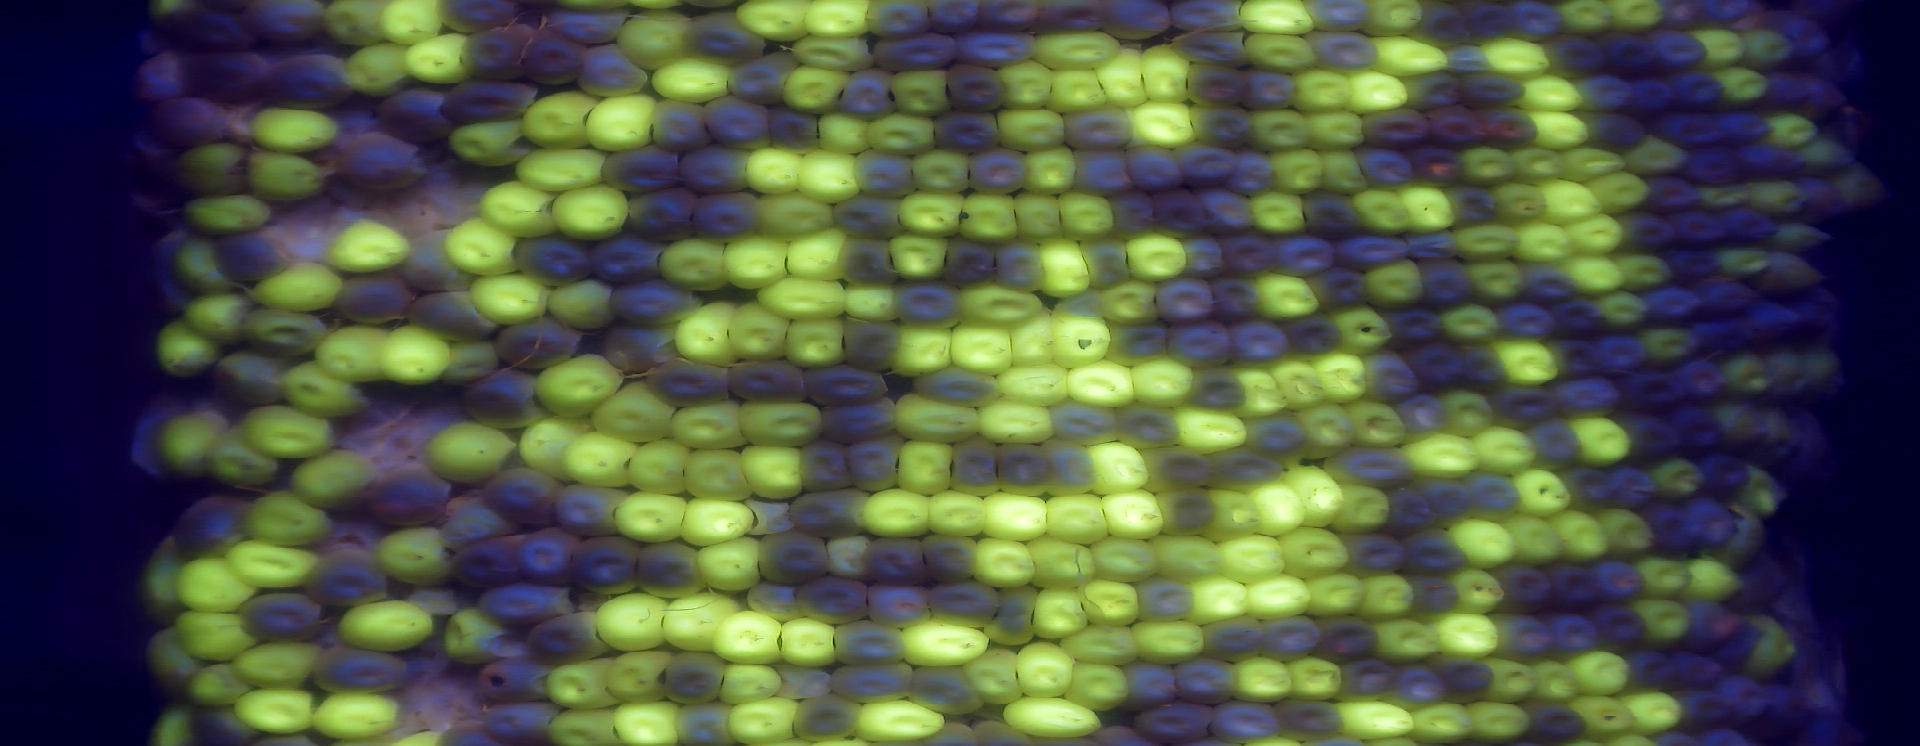fluorescent: (425, 423, 520, 489), (531, 352, 624, 415), (589, 382, 678, 447), (333, 597, 435, 653), (222, 538, 321, 593), (136, 535, 196, 626), (231, 639, 332, 693), (660, 590, 743, 655), (280, 363, 375, 419), (890, 390, 984, 446), (309, 686, 400, 744), (238, 403, 336, 457), (242, 146, 329, 206), (519, 413, 589, 488), (169, 608, 266, 661), (242, 494, 343, 545), (519, 88, 601, 151), (672, 299, 744, 369), (442, 218, 522, 281), (549, 183, 633, 241), (593, 593, 673, 654), (209, 423, 285, 488), (289, 453, 377, 508), (478, 181, 558, 241), (998, 695, 1104, 740), (953, 278, 1051, 327), (168, 140, 251, 197), (153, 410, 227, 475), (469, 273, 553, 330), (326, 219, 411, 274), (1171, 397, 1249, 457), (180, 289, 260, 348), (249, 261, 342, 311), (615, 9, 689, 71), (692, 535, 769, 595), (247, 104, 344, 152), (729, 299, 796, 367), (583, 92, 658, 153), (898, 620, 991, 669), (376, 327, 452, 387), (1022, 533, 1100, 592), (1284, 461, 1347, 533), (756, 279, 852, 326), (312, 327, 396, 381), (375, 527, 451, 586), (1276, 521, 1352, 579), (853, 696, 947, 744), (735, 398, 823, 448), (153, 318, 227, 379), (670, 402, 753, 454), (342, 40, 411, 103), (175, 559, 260, 610), (713, 609, 786, 668), (1742, 611, 1800, 686), (680, 494, 759, 548), (171, 234, 240, 296), (1086, 533, 1163, 588), (562, 432, 634, 491), (230, 687, 321, 734), (179, 191, 274, 235), (779, 62, 853, 119), (736, 446, 811, 502), (1086, 437, 1153, 500), (1044, 491, 1116, 550), (860, 488, 937, 541), (613, 491, 689, 545), (1144, 532, 1227, 581), (512, 148, 612, 189), (970, 533, 1040, 590), (980, 491, 1051, 548), (991, 105, 1071, 154), (607, 696, 686, 746), (1065, 660, 1136, 715), (890, 323, 958, 381), (1430, 615, 1504, 668), (1129, 356, 1199, 412), (1060, 622, 1145, 668), (1706, 508, 1768, 570), (722, 697, 804, 744), (893, 440, 958, 499), (1065, 363, 1141, 413), (795, 149, 863, 205), (749, 195, 838, 238), (1358, 257, 1431, 309), (1449, 514, 1517, 570), (732, 1, 813, 48), (1122, 232, 1191, 285), (779, 318, 849, 372), (628, 439, 689, 500), (142, 628, 203, 690), (658, 239, 729, 292), (1093, 47, 1151, 111), (1569, 413, 1633, 470), (1027, 583, 1093, 639), (789, 34, 880, 75), (602, 646, 670, 701), (400, 33, 469, 87), (449, 118, 523, 168), (1130, 97, 1200, 149), (1136, 44, 1196, 105), (441, 608, 506, 664), (722, 236, 789, 292), (950, 321, 1016, 376), (776, 619, 842, 674), (1507, 465, 1575, 519), (650, 58, 735, 100), (889, 66, 958, 119), (689, 450, 754, 505), (1251, 272, 1322, 322), (1569, 692, 1641, 741), (1183, 576, 1251, 627), (1076, 579, 1145, 631), (1000, 316, 1063, 372), (1013, 638, 1075, 695), (992, 56, 1056, 111), (895, 191, 969, 239), (542, 665, 622, 709), (1471, 423, 1536, 477), (1032, 33, 1124, 71), (547, 277, 613, 330), (1480, 652, 1540, 709), (996, 365, 1071, 410), (1404, 435, 1480, 480), (1051, 314, 1114, 367), (955, 191, 1021, 243), (976, 401, 1053, 445), (1466, 698, 1537, 746), (1131, 617, 1206, 663), (966, 647, 1024, 706), (1100, 490, 1167, 540), (1496, 339, 1564, 390), (1231, 655, 1292, 710), (1632, 600, 1695, 654), (742, 148, 807, 200), (1040, 240, 1095, 300), (1507, 512, 1562, 572), (1371, 617, 1441, 664), (1202, 486, 1261, 541), (1245, 104, 1313, 152), (1056, 191, 1118, 243), (1249, 187, 1311, 239), (714, 661, 786, 706), (1096, 279, 1161, 328), (1269, 355, 1324, 413), (1351, 394, 1406, 452), (546, 706, 624, 746), (1239, 32, 1322, 70), (1335, 484, 1395, 537), (1335, 304, 1396, 355), (1281, 652, 1344, 701), (1213, 538, 1296, 576), (1010, 189, 1068, 243), (923, 489, 988, 537), (867, 113, 939, 156), (1596, 505, 1654, 557), (1359, 570, 1419, 621), (1686, 552, 1746, 604), (885, 234, 951, 281), (1626, 690, 1687, 740), (1371, 36, 1450, 75), (1236, 1, 1319, 38), (377, 1, 448, 44), (1251, 481, 1305, 538), (1527, 655, 1581, 712), (1523, 109, 1592, 153), (1570, 650, 1630, 701), (1044, 69, 1111, 114), (1584, 171, 1652, 216), (1318, 146, 1374, 198), (1265, 148, 1329, 195), (1307, 572, 1370, 619), (1400, 183, 1457, 234), (787, 232, 847, 281), (1624, 134, 1690, 178), (1638, 556, 1701, 603), (1553, 507, 1607, 561), (1311, 353, 1367, 405), (1232, 363, 1283, 419), (1248, 576, 1315, 619), (1450, 225, 1526, 263), (1338, 699, 1414, 737), (1297, 405, 1357, 453), (1449, 568, 1509, 616), (1484, 38, 1553, 80), (1341, 70, 1407, 113), (1466, 260, 1528, 305), (1566, 212, 1625, 260), (839, 281, 904, 323), (1016, 148, 1078, 194), (323, 1, 380, 50), (909, 151, 975, 192), (1438, 387, 1495, 435), (1291, 69, 1356, 110), (1353, 187, 1408, 236), (1556, 145, 1627, 183), (813, 108, 869, 156), (1649, 456, 1706, 503), (1542, 180, 1600, 225), (1307, 110, 1370, 152), (1740, 465, 1788, 521), (1720, 352, 1771, 403), (1516, 220, 1573, 265), (1495, 181, 1551, 225), (802, 1, 872, 37), (1744, 176, 1809, 214), (1562, 255, 1625, 294), (1441, 303, 1500, 344), (1412, 702, 1478, 739), (1616, 250, 1674, 292), (1513, 145, 1569, 187), (1716, 401, 1758, 456), (1741, 27, 1798, 69), (1840, 164, 1888, 213), (143, 706, 201, 746), (1643, 323, 1696, 367), (1755, 398, 1791, 461), (1714, 67, 1774, 105), (1554, 1, 1618, 37), (1523, 73, 1581, 111), (1362, 1, 1425, 34), (1771, 218, 1832, 252), (1689, 29, 1744, 67), (1769, 110, 1820, 152), (1458, 149, 1517, 185), (1602, 290, 1651, 331), (1806, 344, 1843, 397), (1717, 243, 1773, 276), (1700, 179, 1753, 212), (1611, 1, 1668, 32), (1771, 352, 1807, 398), (1799, 137, 1853, 168)
nonfluorescent: (337, 130, 430, 192), (362, 465, 456, 526), (437, 73, 539, 126), (260, 54, 360, 107), (167, 496, 258, 552), (605, 276, 700, 330), (214, 350, 298, 412), (312, 639, 409, 692), (147, 6, 258, 51), (462, 367, 549, 424), (186, 44, 266, 105), (332, 269, 413, 330), (302, 546, 389, 601), (476, 586, 588, 628), (400, 232, 474, 296), (511, 234, 599, 287), (572, 528, 640, 595), (482, 470, 569, 523), (410, 289, 501, 339), (905, 664, 987, 719), (212, 227, 290, 284), (448, 537, 538, 587), (528, 608, 611, 661), (240, 589, 324, 642), (756, 532, 834, 588), (598, 148, 684, 198), (375, 88, 456, 142), (636, 541, 709, 600), (587, 229, 666, 283), (624, 187, 700, 244), (800, 363, 899, 405), (797, 573, 874, 628), (480, 650, 553, 708), (787, 693, 867, 746), (497, 318, 580, 369), (686, 187, 762, 241), (648, 356, 729, 407), (1101, 318, 1176, 372), (1621, 412, 1692, 468), (675, 146, 752, 197), (244, 1, 331, 47), (827, 192, 909, 240), (1180, 59, 1251, 114), (1116, 398, 1187, 453), (645, 94, 711, 153), (722, 356, 808, 402), (703, 96, 770, 153), (154, 94, 231, 145), (1142, 442, 1220, 492), (460, 29, 534, 82), (910, 367, 1005, 408), (444, 499, 516, 552), (1040, 434, 1098, 499), (827, 660, 923, 699), (867, 29, 958, 71), (921, 581, 999, 628), (516, 527, 580, 584), (829, 620, 913, 664), (666, 650, 733, 706), (1326, 448, 1420, 488), (944, 62, 1014, 115), (482, 699, 566, 744), (1180, 365, 1251, 416), (520, 29, 587, 85), (1053, 398, 1127, 447), (579, 45, 649, 97), (726, 50, 796, 102), (767, 658, 838, 708), (555, 481, 627, 530), (991, 236, 1051, 295), (844, 318, 905, 376), (1408, 565, 1472, 620), (600, 321, 665, 375), (891, 279, 962, 328), (1187, 98, 1254, 149), (853, 151, 921, 202), (1489, 560, 1556, 611), (544, 7, 632, 47), (1057, 105, 1135, 149), (1172, 652, 1240, 702), (816, 402, 900, 442), (1213, 445, 1293, 488), (993, 439, 1051, 497), (1638, 502, 1697, 560), (1155, 486, 1222, 537), (1353, 352, 1420, 402), (1167, 316, 1229, 370), (846, 437, 909, 491), (696, 13, 768, 60), (790, 490, 862, 537), (1180, 138, 1240, 194), (838, 233, 899, 287), (1100, 1, 1176, 44), (667, 703, 743, 746), (1338, 529, 1408, 576), (918, 530, 984, 579), (1316, 612, 1382, 661), (1767, 677, 1816, 744), (969, 143, 1029, 197), (1149, 185, 1209, 239), (1490, 610, 1553, 661), (1311, 29, 1386, 72), (866, 534, 929, 584), (1221, 234, 1289, 281), (986, 586, 1041, 643), (860, 1, 938, 42), (950, 437, 1003, 497), (1069, 148, 1135, 196), (931, 108, 1002, 152), (861, 583, 932, 627), (1303, 189, 1367, 238), (1356, 107, 1433, 147), (1404, 341, 1467, 390), (1078, 236, 1131, 293), (1457, 338, 1511, 394), (942, 235, 999, 288), (764, 100, 823, 152), (1119, 659, 1179, 709), (1035, 1, 1119, 37), (1582, 109, 1648, 154), (1733, 142, 1809, 181), (841, 66, 896, 120), (1198, 185, 1254, 238), (802, 439, 855, 495), (1130, 702, 1213, 737), (1213, 702, 1284, 744), (1354, 142, 1414, 191), (1591, 557, 1651, 606), (1411, 2, 1472, 50), (1526, 421, 1587, 469), (1493, 301, 1562, 343), (1282, 314, 1346, 359), (742, 583, 813, 624), (1333, 236, 1413, 272), (1696, 448, 1753, 497), (1466, 470, 1523, 519), (1723, 670, 1772, 728), (431, 1, 523, 32), (1222, 318, 1289, 360), (1135, 576, 1195, 622), (1247, 413, 1311, 456), (1171, 1, 1251, 36), (1129, 142, 1183, 194), (1693, 318, 1762, 359), (1104, 191, 1160, 241), (1278, 698, 1346, 739), (1576, 72, 1636, 118), (1381, 486, 1435, 537), (1551, 377, 1627, 413), (1558, 34, 1614, 82), (1204, 620, 1272, 659), (1441, 657, 1499, 703), (1504, 1, 1566, 44), (1682, 146, 1746, 187), (1262, 616, 1322, 660), (1390, 666, 1450, 710), (1684, 497, 1738, 546), (1598, 31, 1654, 77), (1418, 265, 1476, 310), (954, 28, 1030, 62), (1640, 170, 1702, 212), (1457, 69, 1523, 108), (1660, 110, 1727, 149), (1527, 702, 1586, 746), (1749, 293, 1798, 345), (1671, 401, 1720, 453), (1384, 305, 1447, 345), (1495, 383, 1559, 424), (1651, 32, 1712, 73), (1477, 104, 1538, 146), (1400, 532, 1464, 571), (1429, 105, 1487, 149), (972, 1, 1046, 36), (1311, 268, 1370, 311), (1157, 274, 1210, 322), (1642, 287, 1708, 325), (1671, 71, 1731, 113), (1779, 15, 1831, 62), (1456, 1, 1518, 40), (1676, 687, 1735, 729), (1597, 608, 1651, 653), (1558, 469, 1618, 510), (1243, 69, 1299, 111), (1798, 75, 1848, 122), (1673, 209, 1729, 251), (1550, 300, 1607, 342), (1629, 370, 1685, 412), (1224, 145, 1273, 192), (1210, 273, 1260, 320), (1550, 562, 1600, 609), (1547, 610, 1598, 655), (1409, 146, 1464, 187), (1722, 209, 1782, 247), (1555, 336, 1607, 380), (1440, 186, 1498, 225), (1282, 235, 1340, 274), (1400, 73, 1461, 110), (1300, 1, 1376, 31), (1799, 287, 1839, 342), (1673, 647, 1728, 687), (1423, 480, 1473, 524), (1609, 467, 1660, 510), (1717, 109, 1774, 147), (1598, 331, 1644, 377), (1341, 660, 1396, 699), (1685, 597, 1728, 647), (1400, 229, 1460, 263), (1184, 233, 1227, 281), (1629, 213, 1676, 256), (1698, 281, 1755, 316), (1631, 75, 1678, 118), (1675, 358, 1722, 401), (924, 1, 984, 34), (1800, 179, 1844, 220), (1522, 265, 1566, 304), (1664, 252, 1724, 281), (1398, 397, 1444, 434), (1766, 73, 1804, 116), (1629, 653, 1675, 687), (1701, 1, 1752, 24), (1667, 1, 1700, 32)
